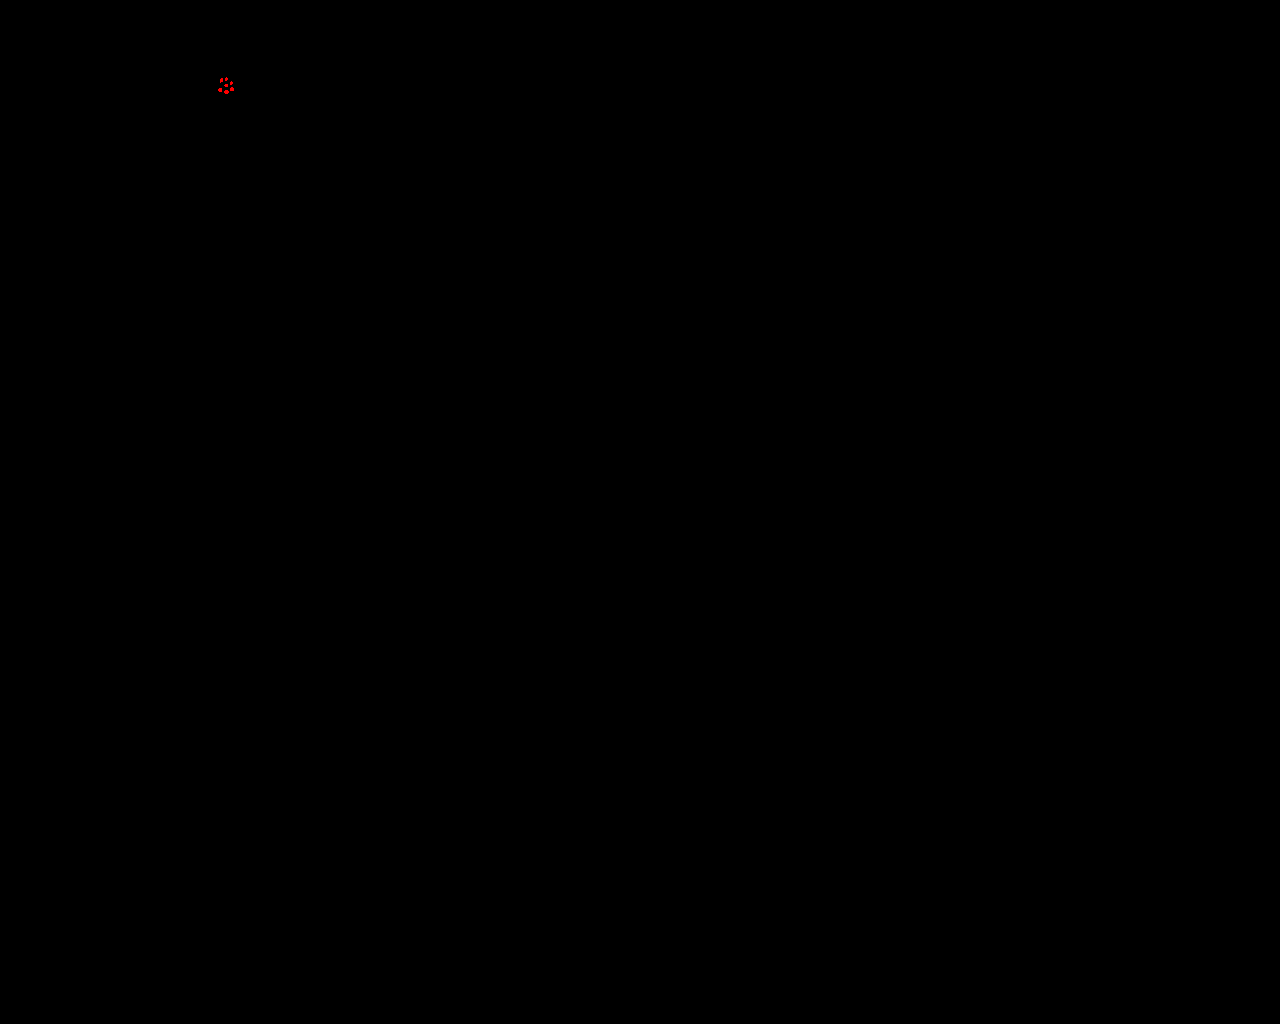Target: (224, 90, 229, 94), (230, 87, 234, 91), (225, 77, 228, 82), (224, 84, 228, 87), (218, 88, 222, 92), (230, 82, 233, 85), (220, 78, 223, 83)
